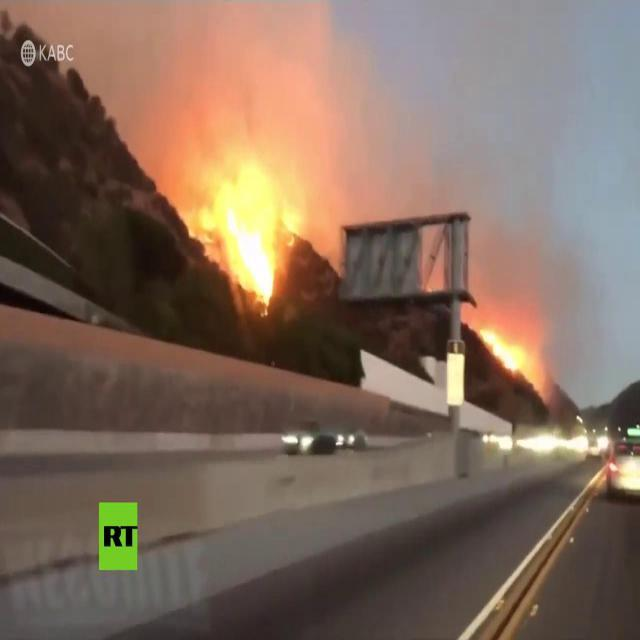Fire: (180, 165, 298, 318), (480, 329, 526, 375)
